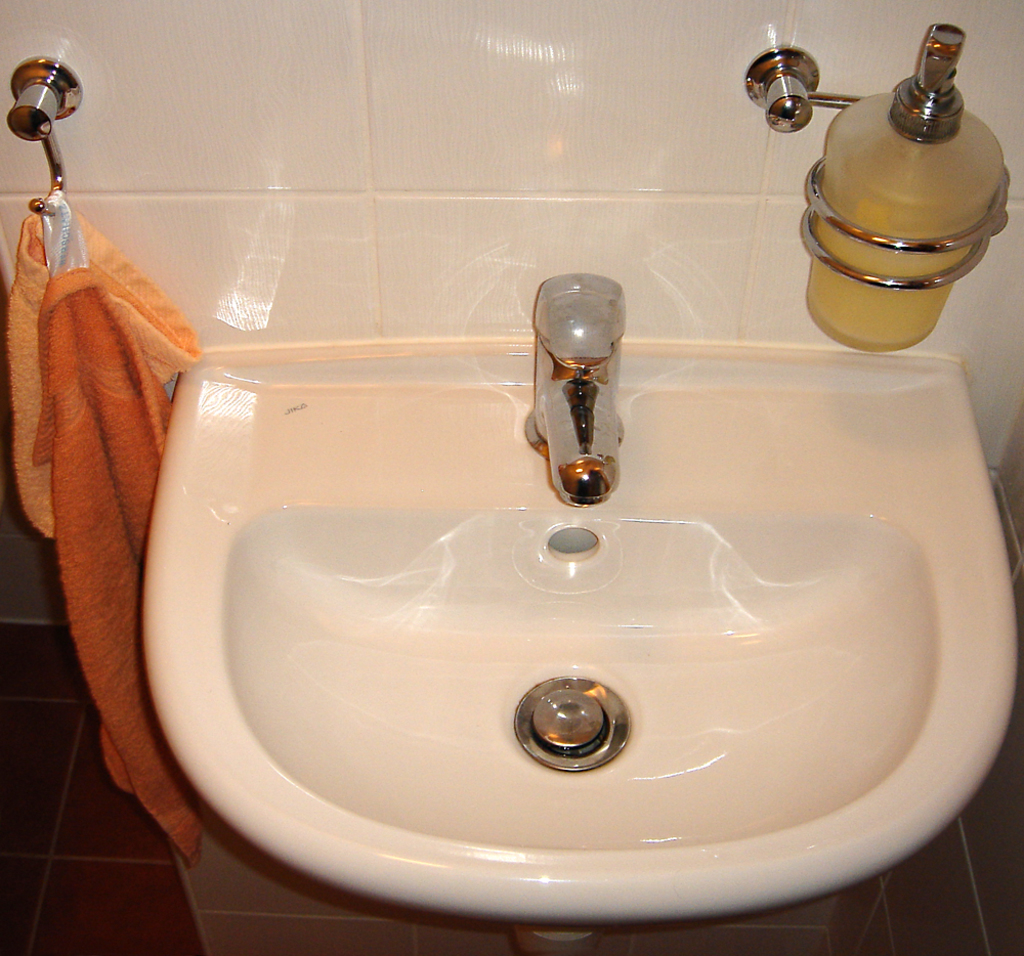tap: (520, 265, 626, 500)
